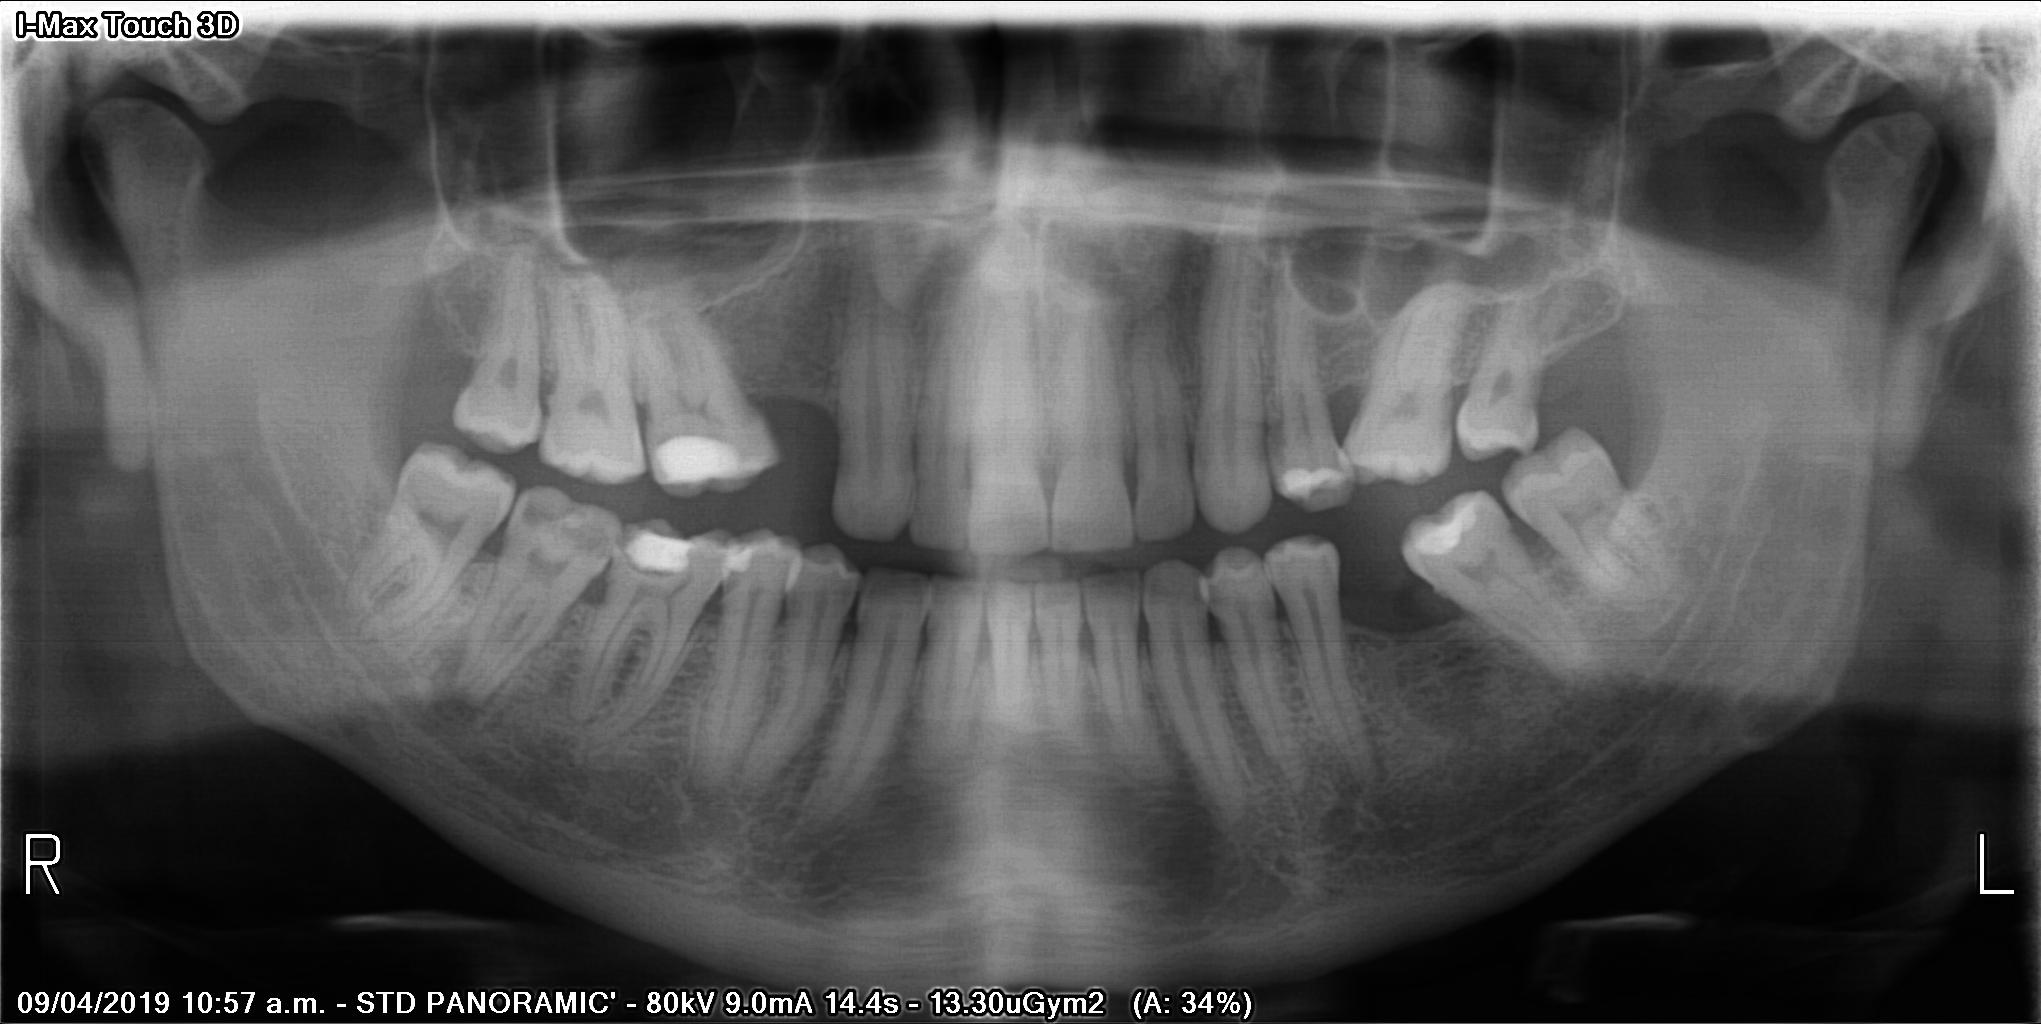Çürük: (1408, 495, 1479, 559), (662, 438, 740, 486), (625, 529, 703, 567), (1284, 466, 1340, 499), (722, 542, 753, 572)
Çürük Bölgesi: (520, 498, 609, 559), (625, 567, 680, 585), (611, 517, 637, 550)
